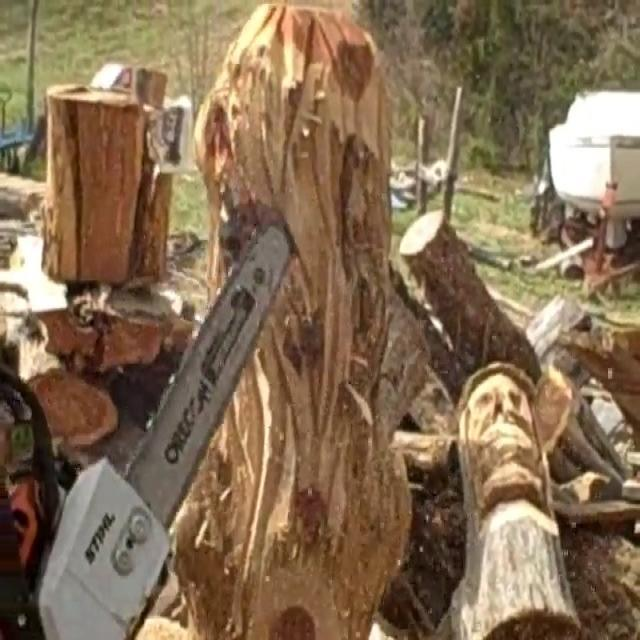Chainsaw: (0, 210, 298, 640)
